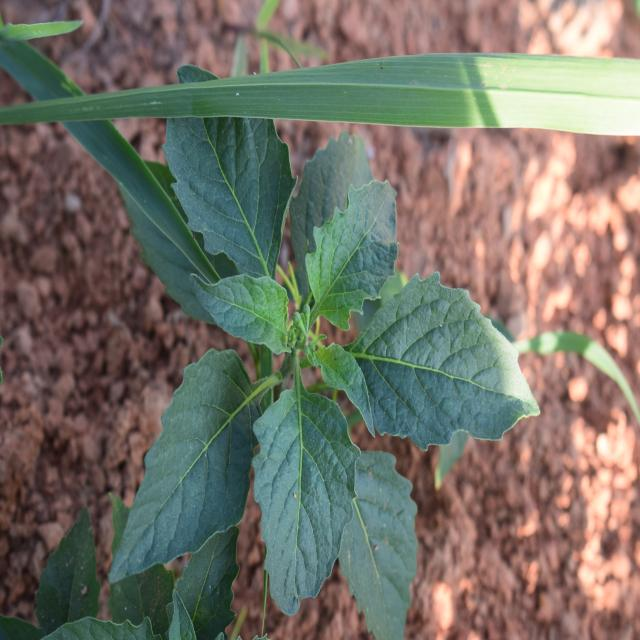Black_nightshade: (143, 98, 526, 628)
